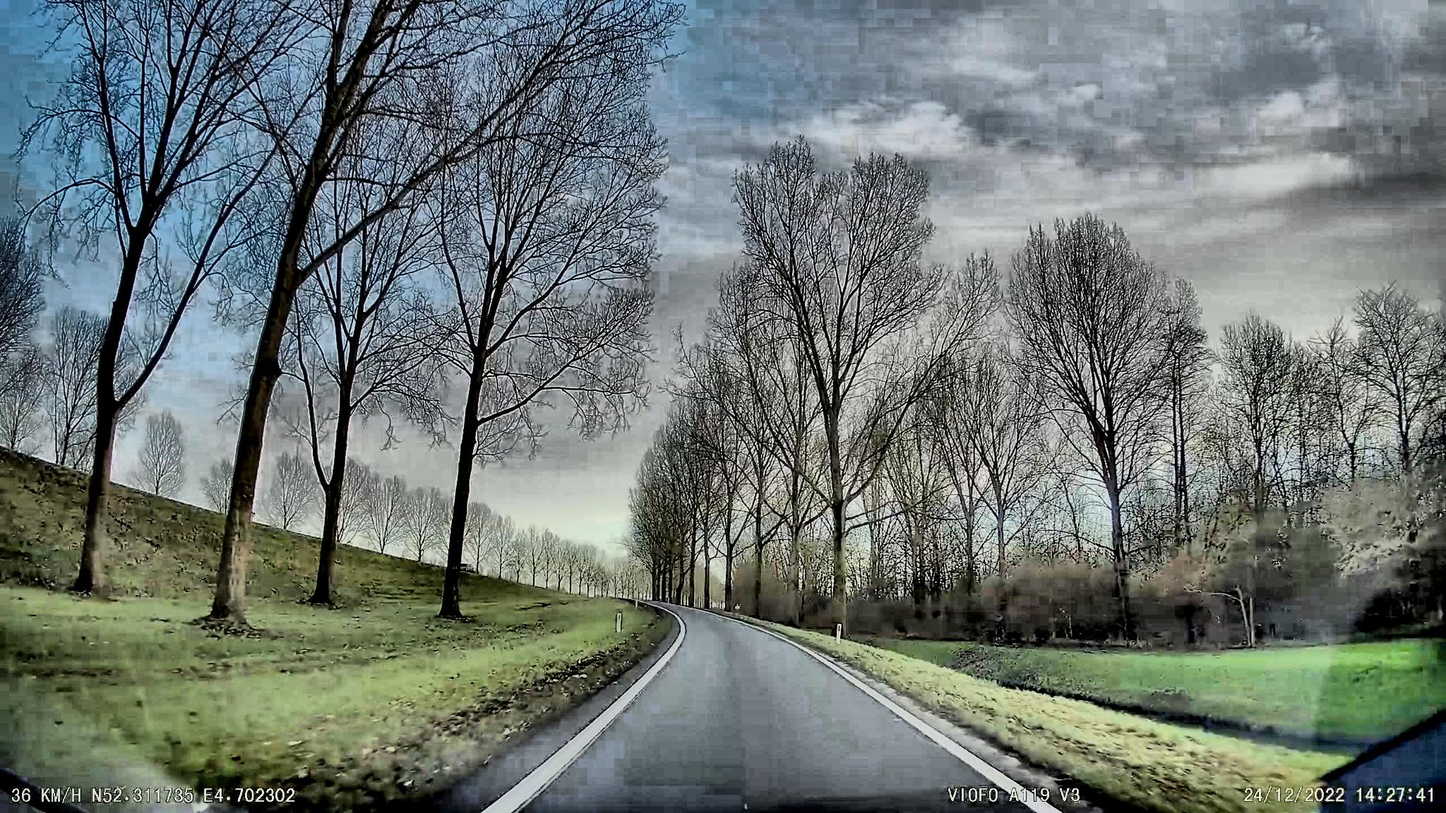Roads: (398, 608, 1141, 813)
